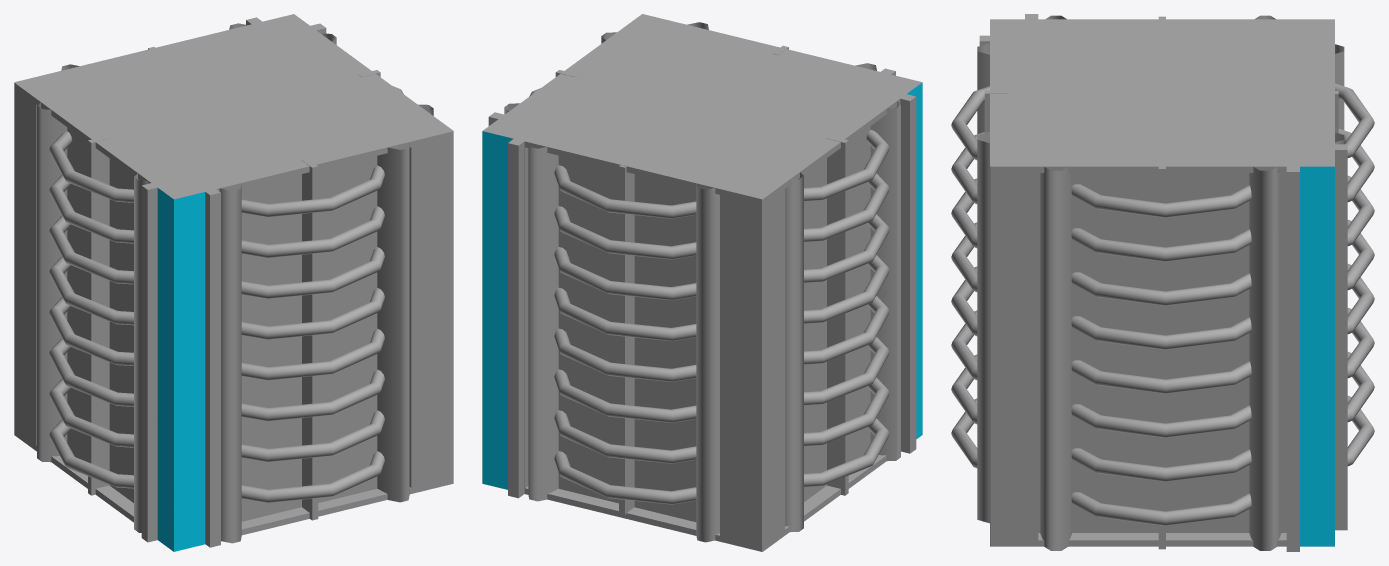
Rendered from BuildingPiece_1_ArchBottom.fbx.
3 renders of one model, left to right at view 1: azimuth 30°, elevation 25°; view 2: azimuth 150°, elevation 25°; view 3: azimuth 270°, elevation 25°, orthographic. The views are drawn at different scales.
Visible parts, largest first — view 1: BuildingPiece1_ArchBottom; view 2: BuildingPiece1_ArchBottom; view 3: BuildingPiece1_ArchBottom.
Part boxes in pixels (<box>): BuildingPiece1_ArchBottom: <box>14,14,453,551</box>; BuildingPiece1_ArchBottom: <box>482,14,922,551</box>; BuildingPiece1_ArchBottom: <box>951,14,1374,551</box>.
Bounding box in the file's own units: 38.43 × 38.08 × 38.43.
